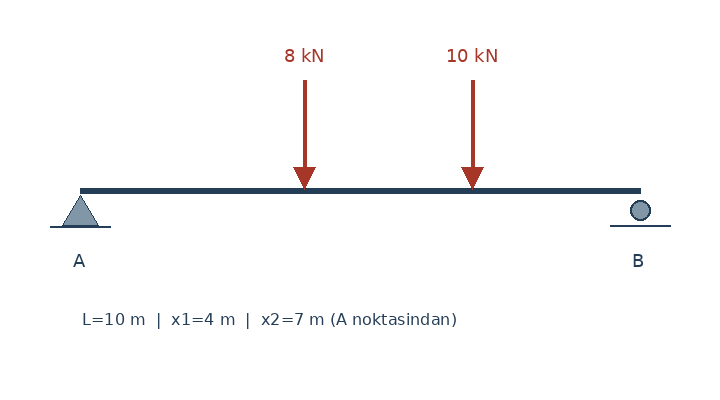pin_support: (61, 190, 99, 226)
point_load: (290, 76, 318, 190), (458, 76, 486, 190)
roller_support: (625, 196, 655, 227)
